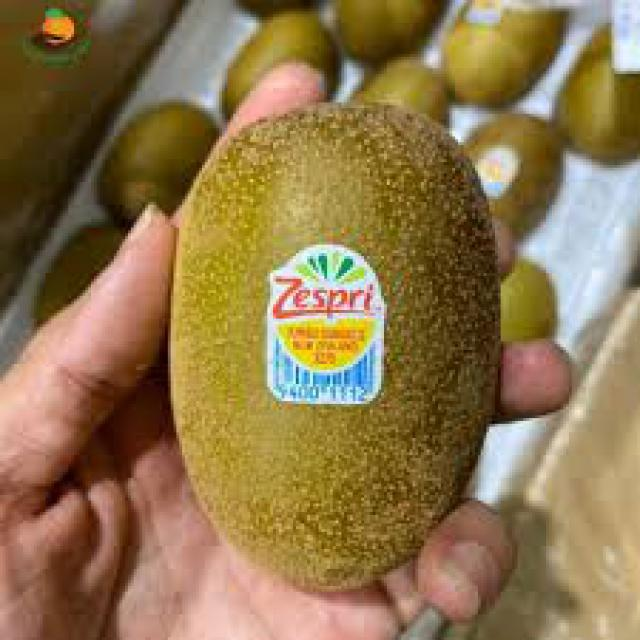kiwi: (169, 101, 504, 596), (101, 98, 217, 212), (223, 15, 343, 109), (513, 112, 519, 243)
